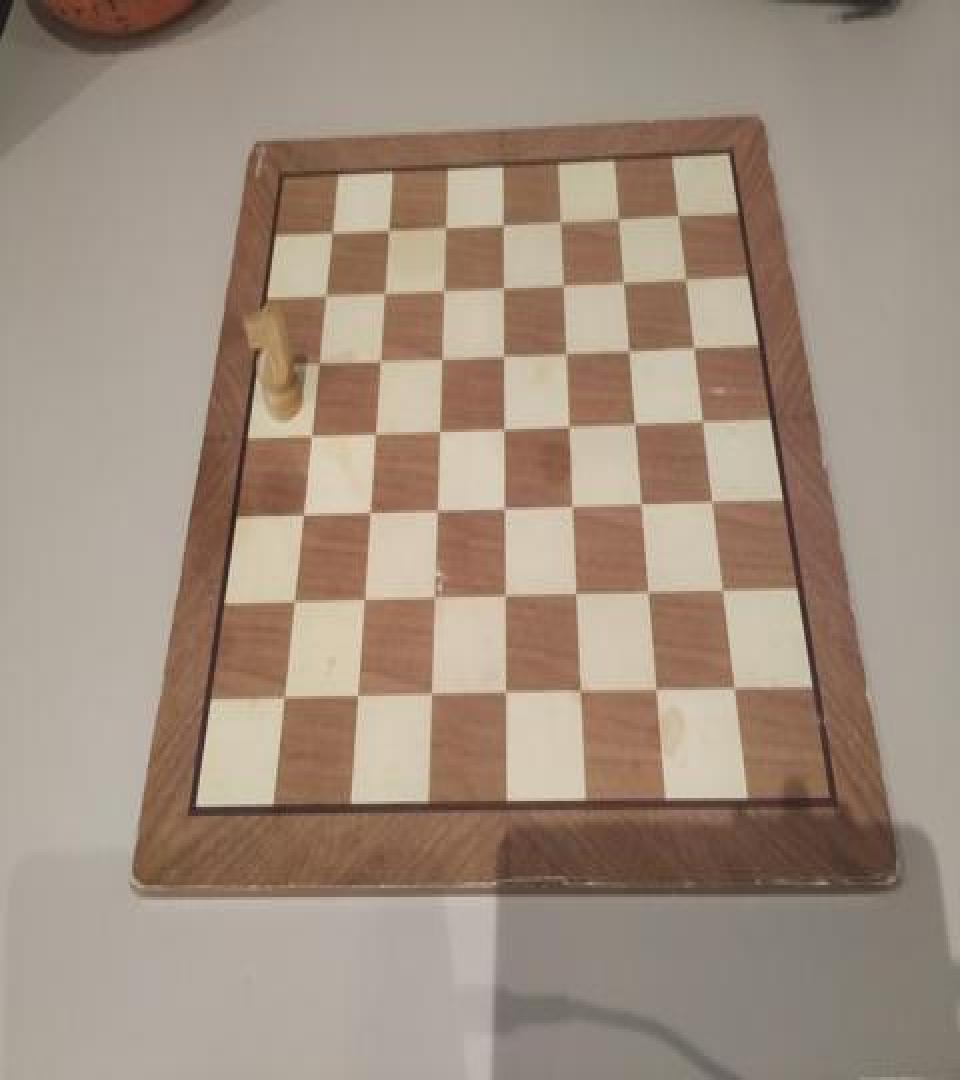xcorner: (360, 499, 380, 530), (274, 687, 294, 717), (348, 684, 368, 714), (499, 680, 519, 710), (575, 678, 595, 708), (652, 675, 672, 705), (283, 590, 303, 620), (354, 588, 374, 618), (426, 585, 446, 615), (498, 582, 518, 612), (644, 578, 664, 608), (718, 574, 738, 604), (292, 501, 312, 531), (428, 496, 448, 526), (497, 494, 517, 524), (566, 490, 586, 520), (636, 488, 656, 518), (706, 486, 726, 516), (300, 422, 320, 452), (365, 418, 385, 448), (430, 416, 450, 446), (496, 412, 516, 442), (562, 410, 582, 440), (629, 406, 649, 436), (696, 404, 716, 434), (307, 348, 327, 378), (369, 345, 389, 375), (432, 342, 452, 372), (495, 339, 515, 369), (558, 336, 578, 366), (622, 333, 642, 363), (687, 330, 707, 360), (313, 279, 333, 309), (373, 276, 393, 306), (433, 273, 453, 303), (494, 270, 514, 300), (555, 267, 575, 297), (616, 264, 636, 294), (678, 261, 698, 291), (320, 216, 340, 246), (377, 213, 397, 243), (435, 210, 455, 240), (493, 207, 513, 237), (552, 204, 572, 234), (611, 201, 631, 231), (670, 198, 690, 228), (423, 683, 443, 712), (730, 674, 750, 703), (571, 581, 591, 610)
